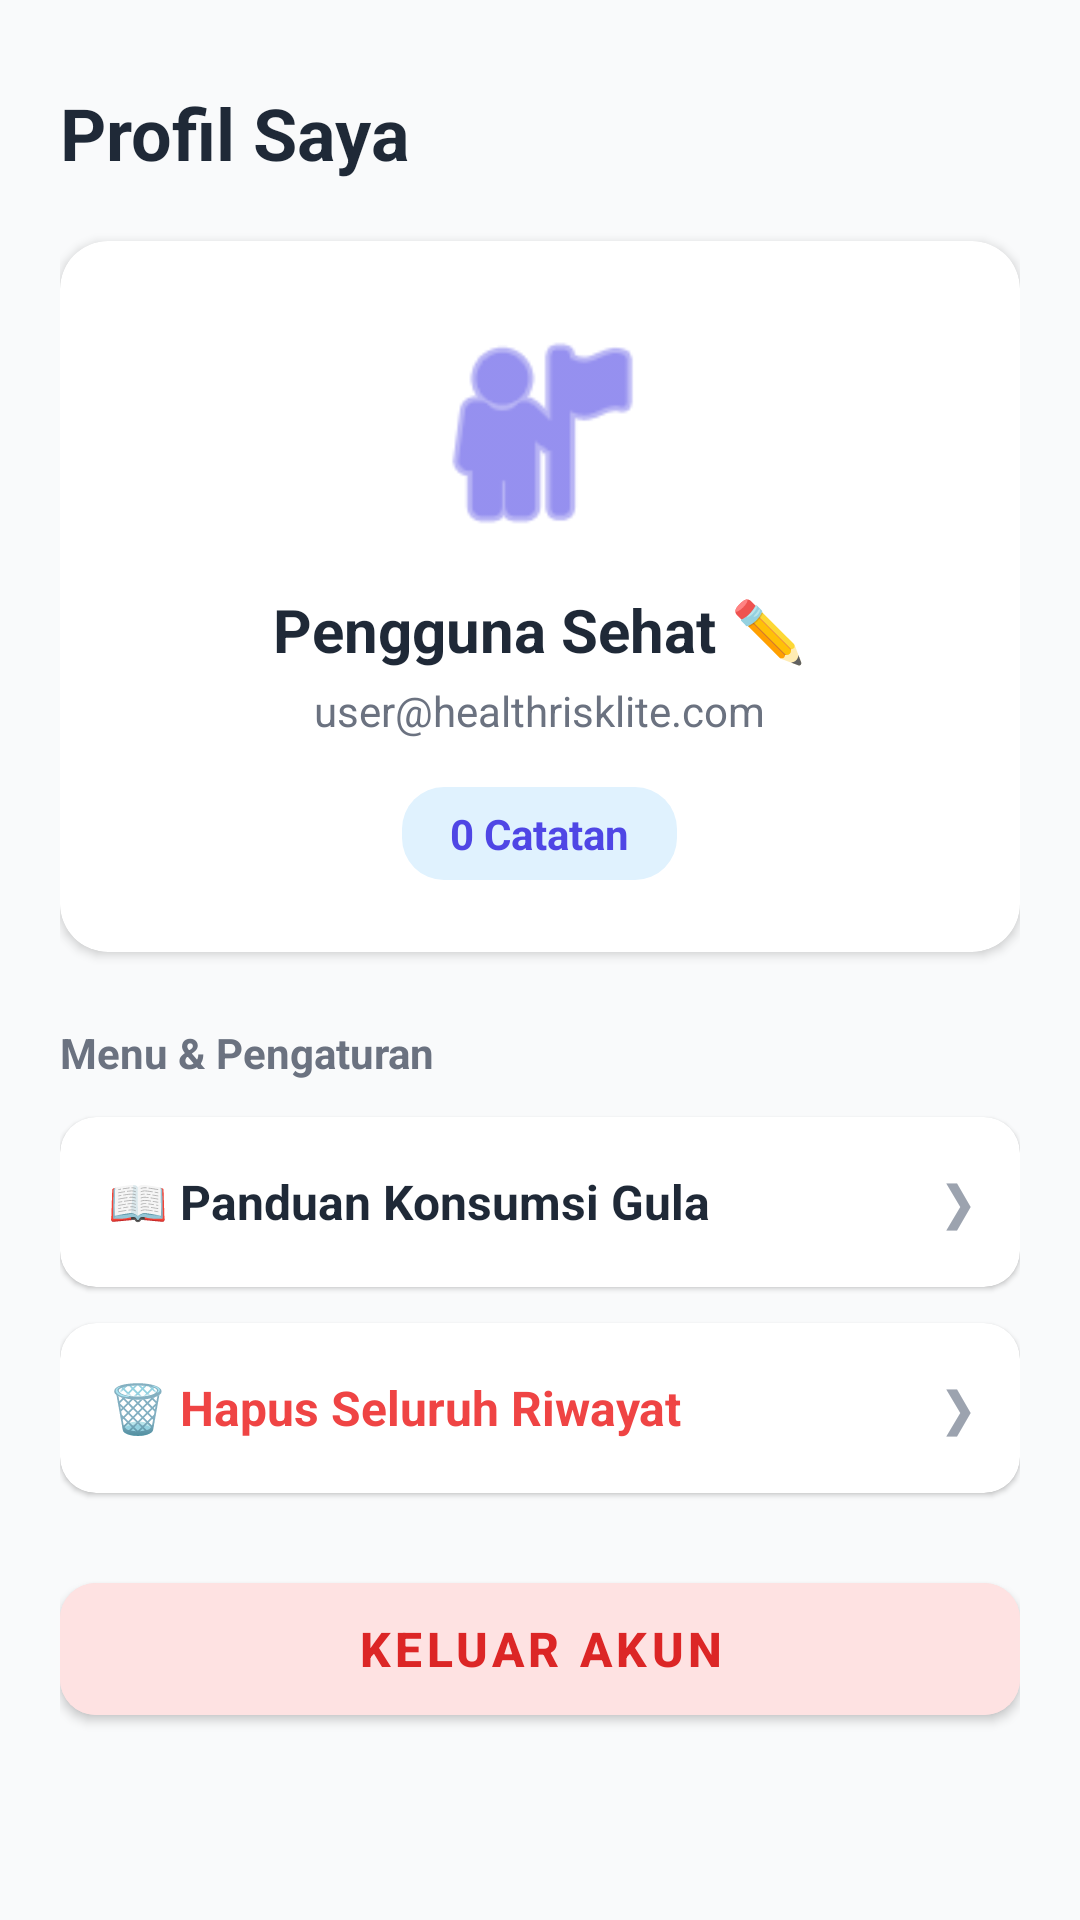

Icon click points for this 1080 x 1920 phone screenshot, format (x,y):
Foto Profil: (542,433)
